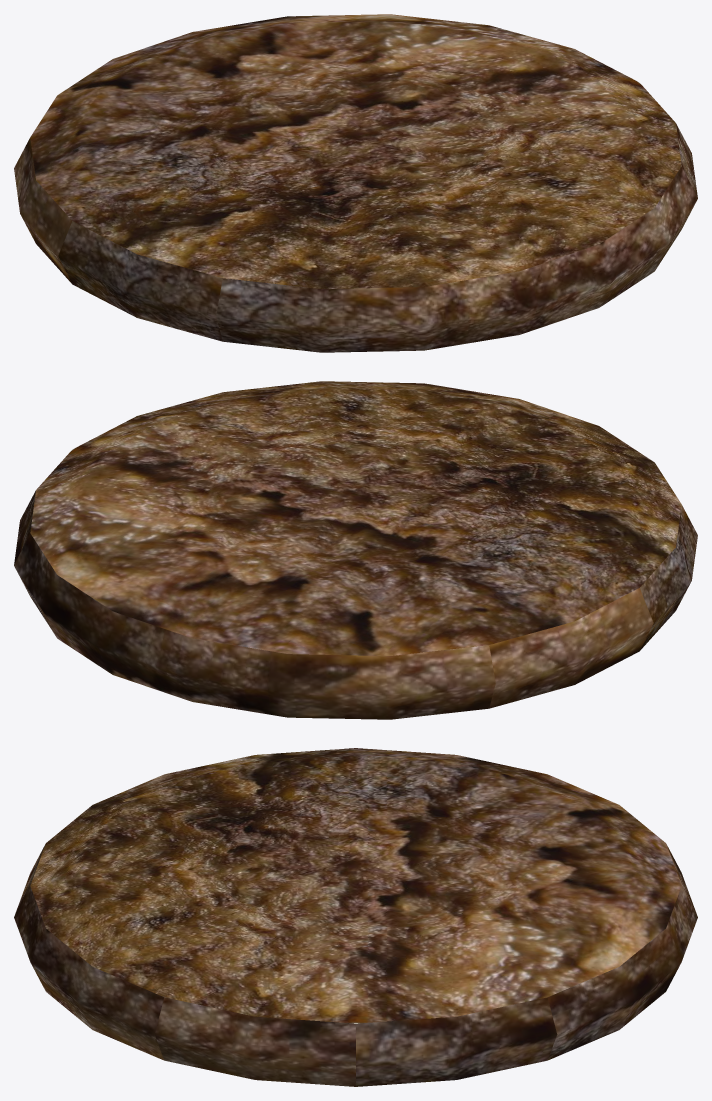
Rendered from patty_FBX.fbx.
3 renders of one model, top to bottom at view 1: azimuth 30°, elevation 25°; view 2: azimuth 150°, elevation 25°; view 3: azimuth 270°, elevation 25°, orthographic.
Visible parts, largest first — view 1: Osy; view 2: Osy; view 3: Osy.
Boxes of the visible parts, box(x1,y1,x2,y2) form: Osy: box(14, 14, 697, 352); Osy: box(14, 381, 697, 719); Osy: box(14, 748, 697, 1086).
Bounding box in the file's own units: 460 × 75.29 × 459.
